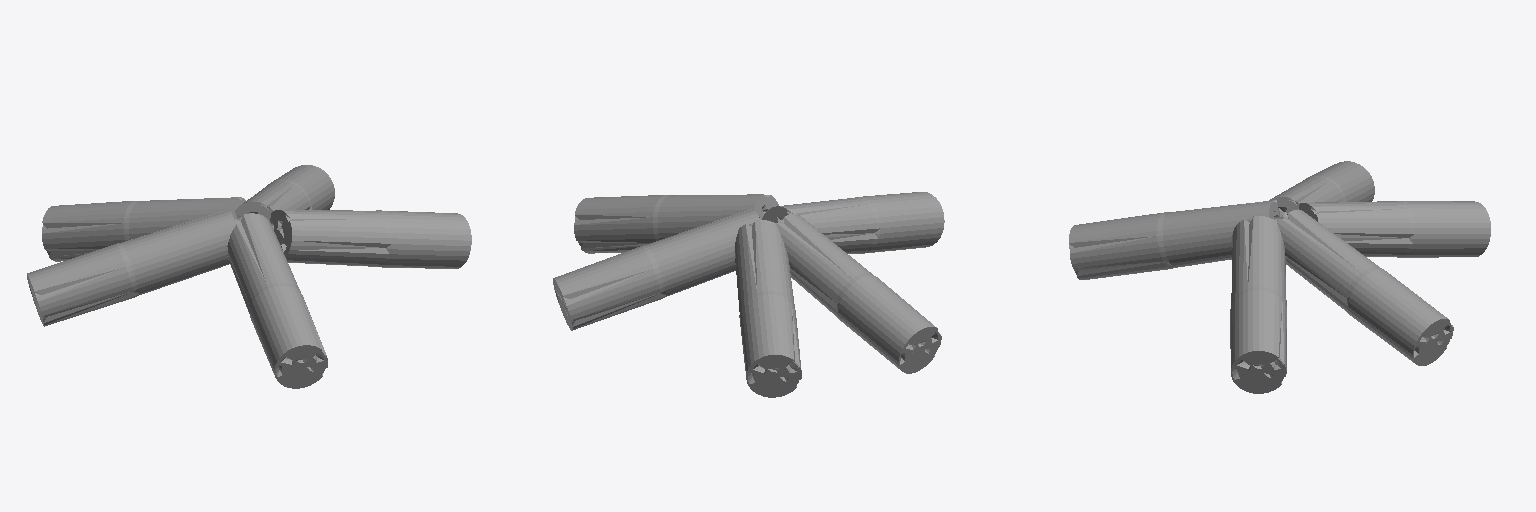
Rendered from campfire.obj.
3 renders of one model, left to right at view 1: azimuth 30°, elevation 25°; view 2: azimuth 150°, elevation 25°; view 3: azimuth 270°, elevation 25°, orthographic.
Size of the model in its own units: 3.49 by 0.8222 by 3.26.